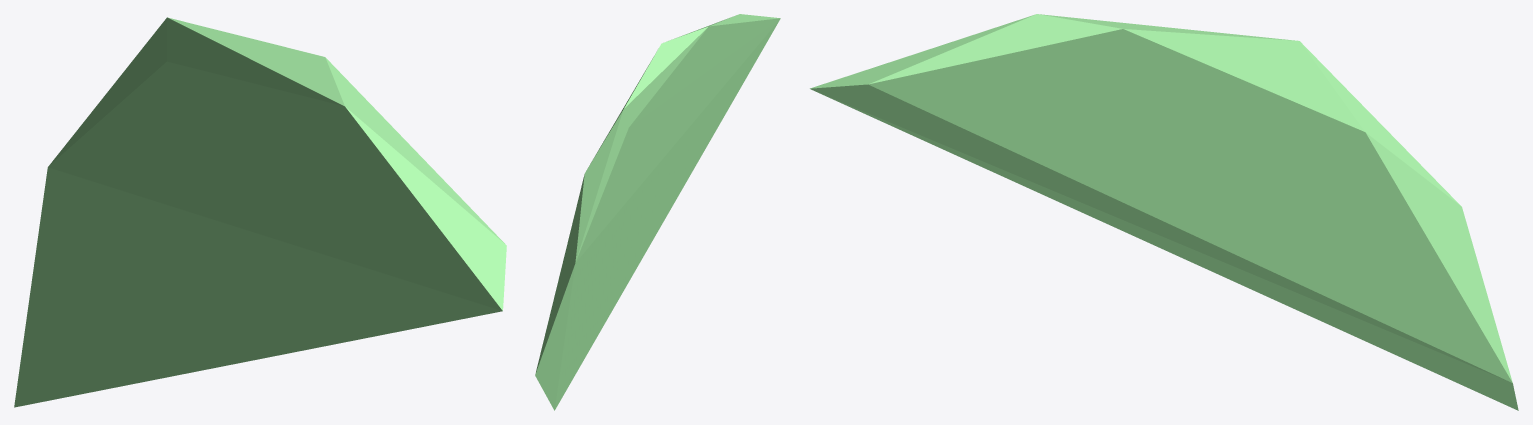
The model's file is linkhou_LR4_R560_link4_respondable_coll_7.dae.
3 renders of one model, left to right at view 1: azimuth 30°, elevation 25°; view 2: azimuth 150°, elevation 25°; view 3: azimuth 270°, elevation 25°, orthographic. The views are drawn at different scales.
Parts seen in each view (by area): view 1: Node_00000209DB3AB9C0; view 2: Node_00000209DB3AB9C0; view 3: Node_00000209DB3AB9C0.
Boxes of the visible parts, box(x1,y1,x2,y2) form: Node_00000209DB3AB9C0: box(14, 17, 506, 407); Node_00000209DB3AB9C0: box(535, 14, 780, 410); Node_00000209DB3AB9C0: box(810, 14, 1518, 410).
Size of the model in its own units: 0.00468 by 0.0366 by 0.0586.
